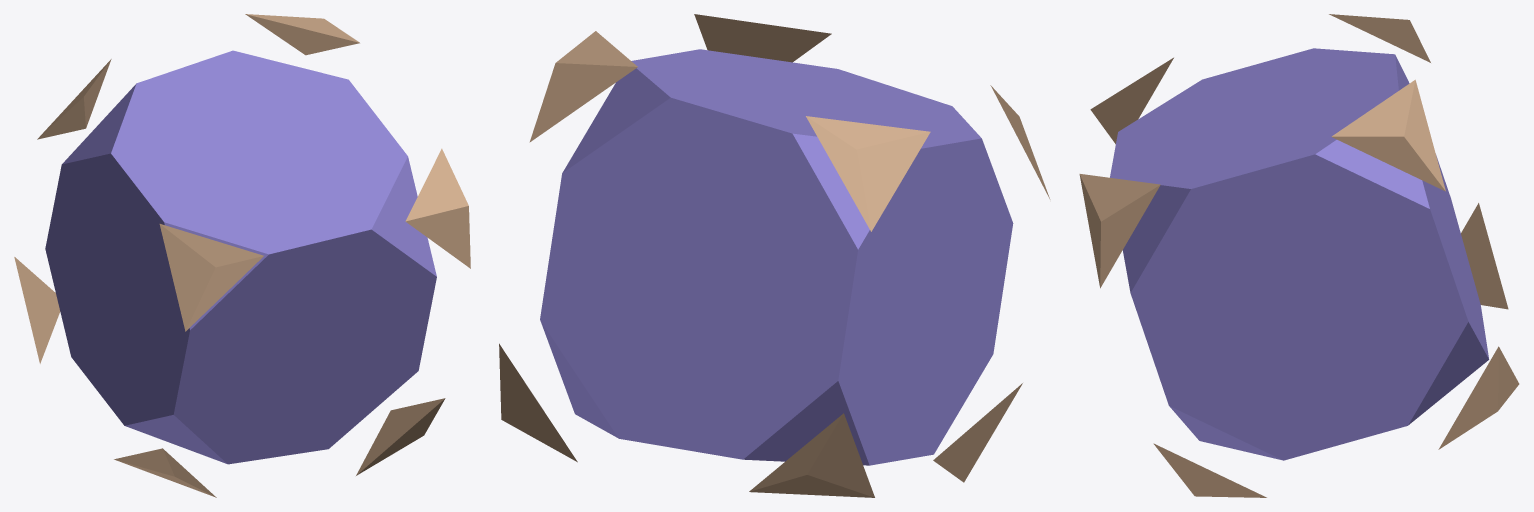
The model's file is example.gltf.
3 views of the same model, side by side, from view 1: azimuth 30°, elevation 25°; view 2: azimuth 150°, elevation 25°; view 3: azimuth 270°, elevation 25° (orthographic). The views are drawn at different scales.
Parts seen in each view (by area): view 1: truncated_tesseract; view 2: truncated_tesseract; view 3: truncated_tesseract.
Part boxes in pixels (<box>): truncated_tesseract: <box>14,14,470,497</box>; truncated_tesseract: <box>499,14,1050,497</box>; truncated_tesseract: <box>1079,14,1519,497</box>.
Bounding box in the file's own units: 2.89 × 3.82 × 3.82.
